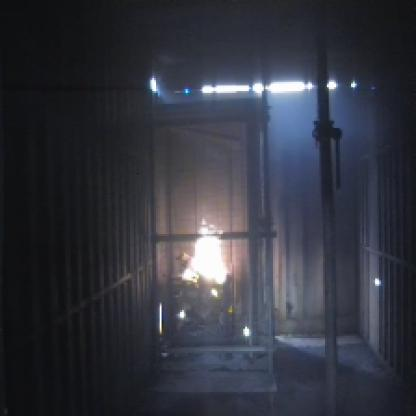Fire: (175, 216, 245, 308)
